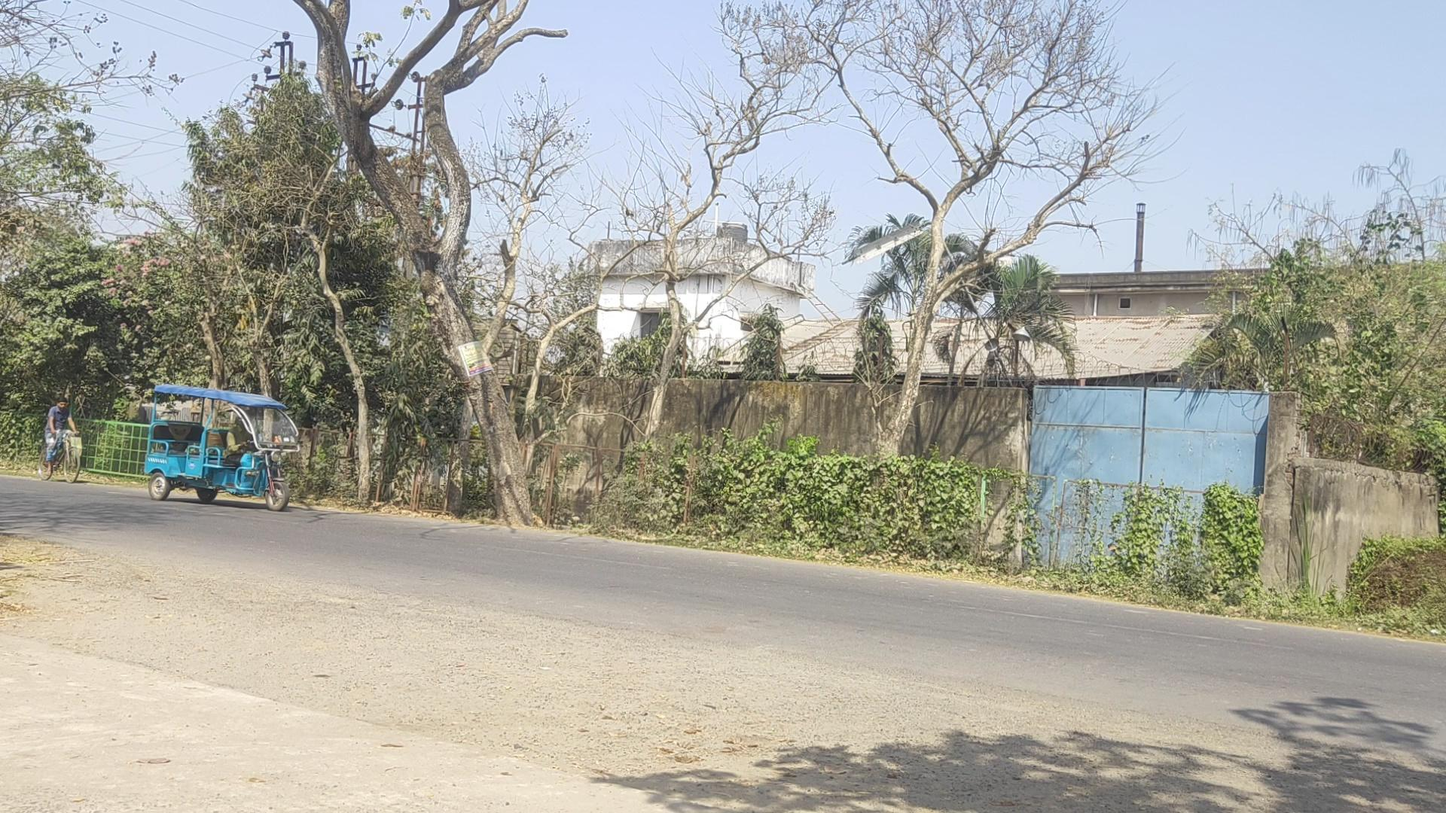Auto: (144, 384, 300, 512)
bike: (38, 397, 81, 483)
